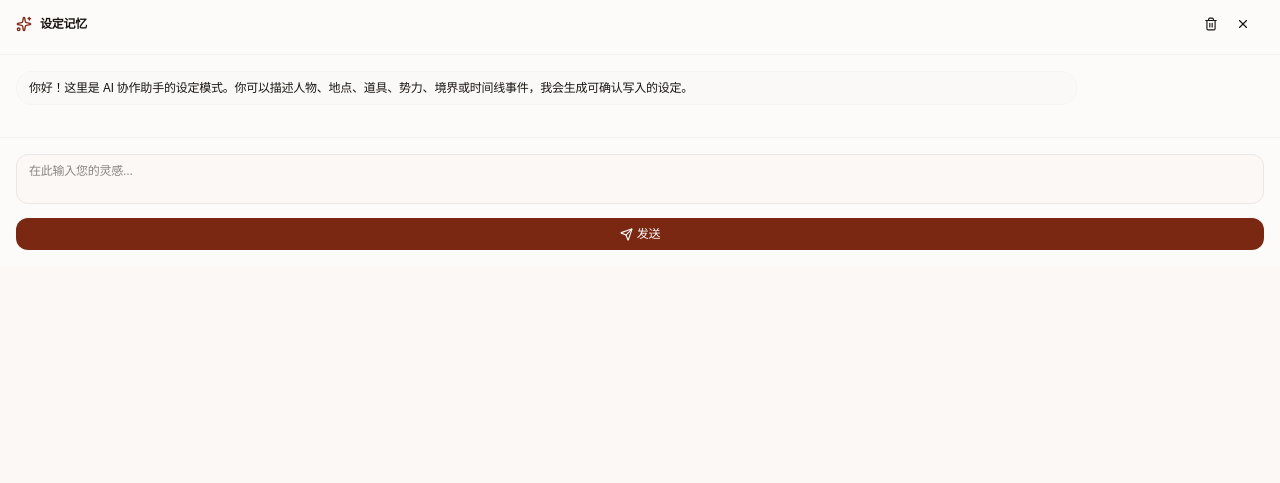
it: WorldBibleAssistant continuation batch sync › 大量既有设定会压缩为受限上下文，不触发 inspiration 请求长度校验
Type "处理资料包中的设定" into the text box named "输入设定灵感" at (640,179), box [16,154,1264,204]
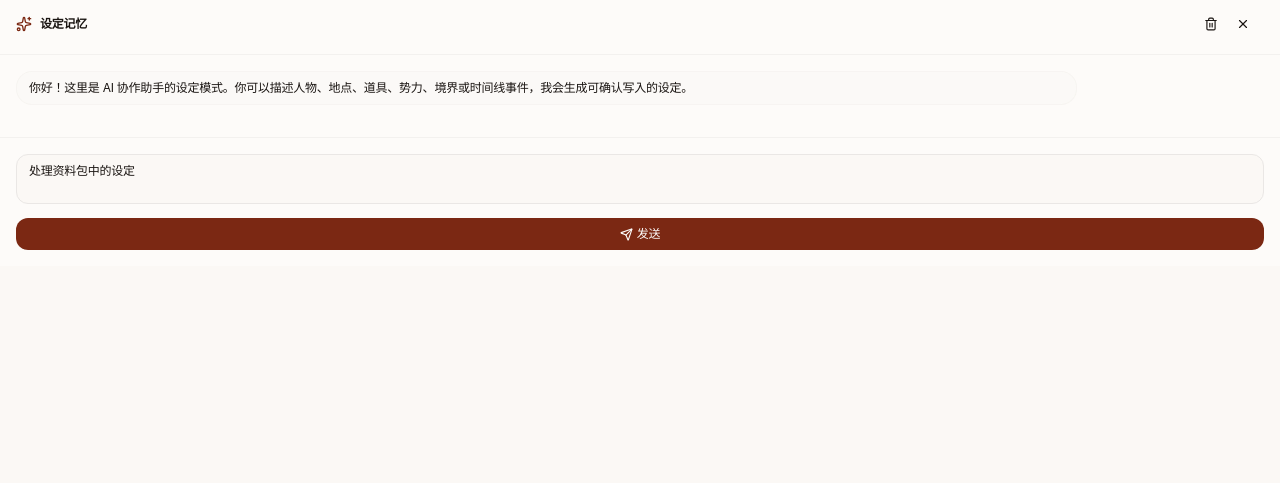
Click the button with aria-label "发送设定灵感" at (640,234), box [16,218,1264,250]
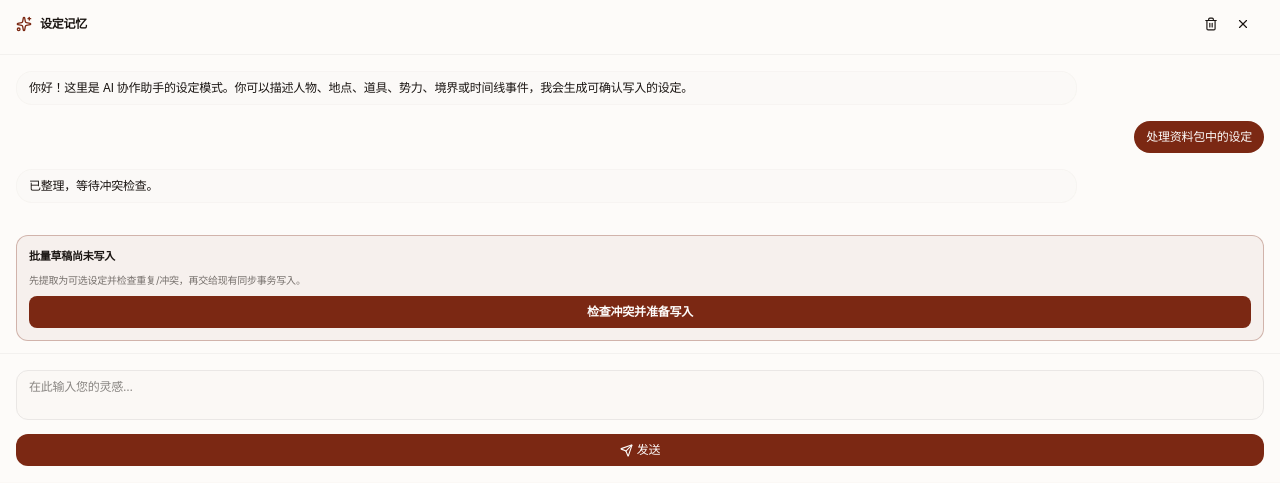
Result: the text "已整理，等待冲突检查。" is shown at [29,178,158,193]
